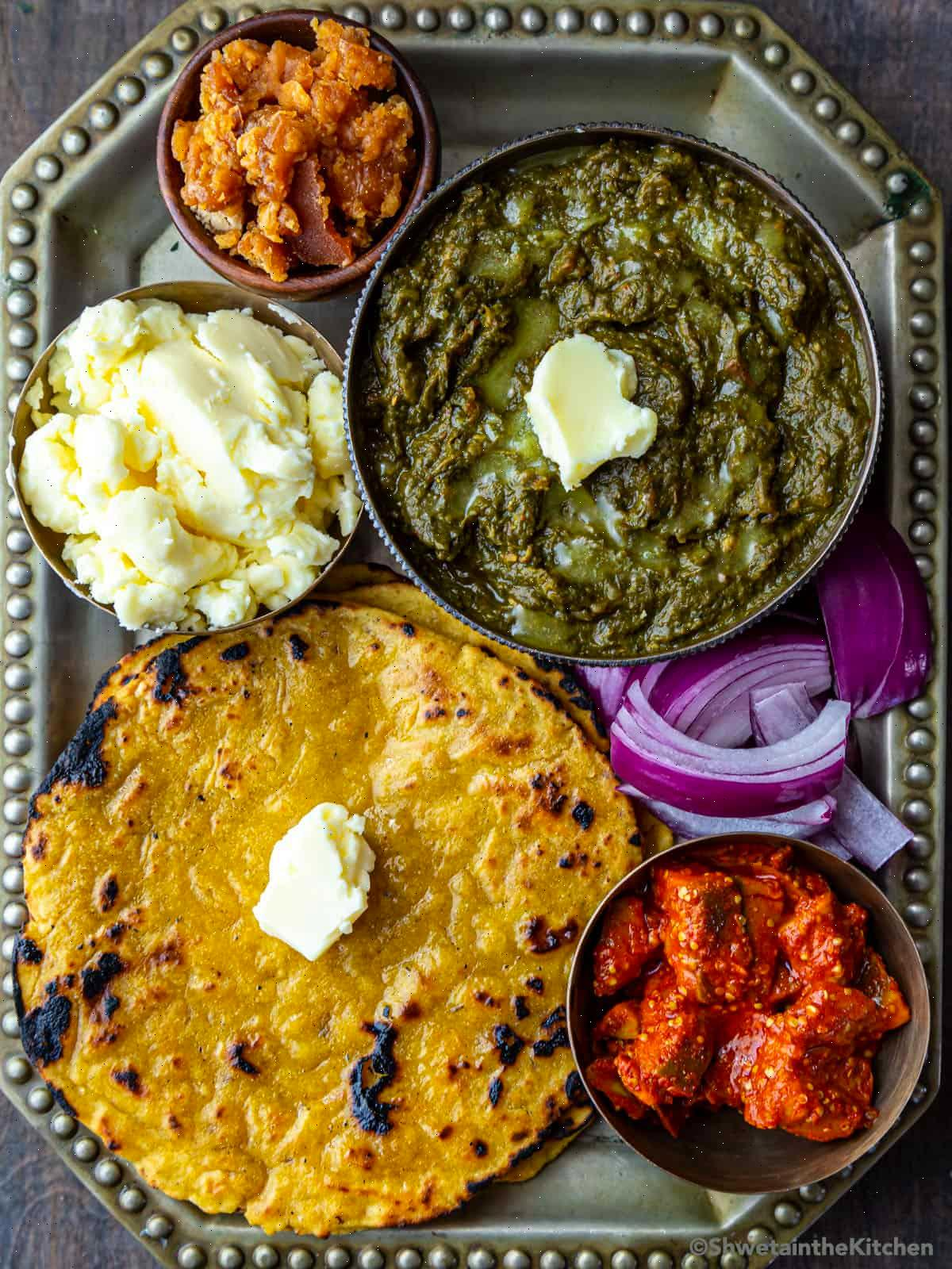saag: (368, 143, 863, 653)
